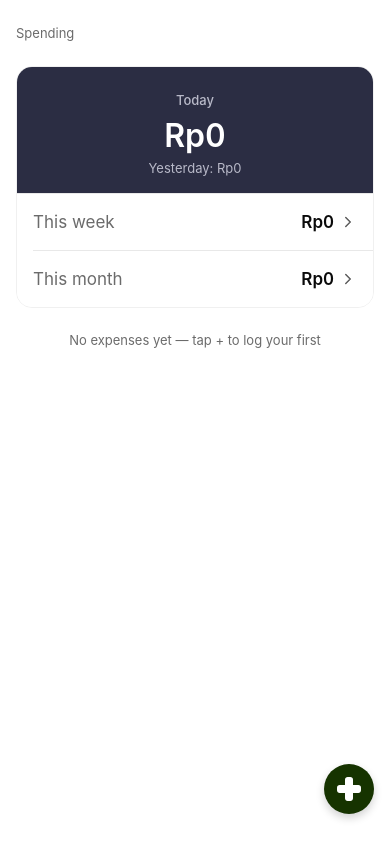
Test case: HomeScreen › opens breakdown sheet when a spending card is pressed
Click the button with aria-label "Today, Rp0 spent, same as yesterday, yesterday Rp0".
click(195, 130)  # box [17, 67, 373, 193]
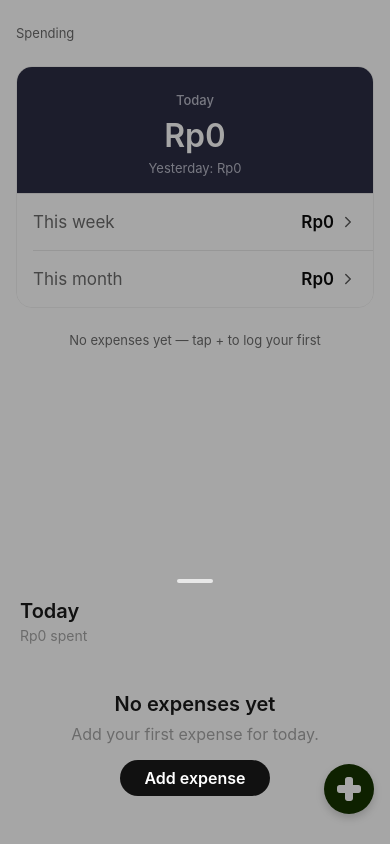
Result: the text "No expenses yet" is shown at [115, 692, 276, 716]
